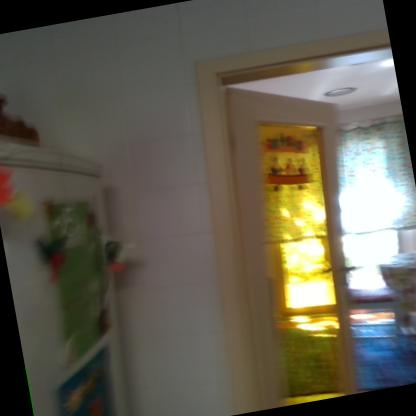semi: (178, 20, 415, 413)
